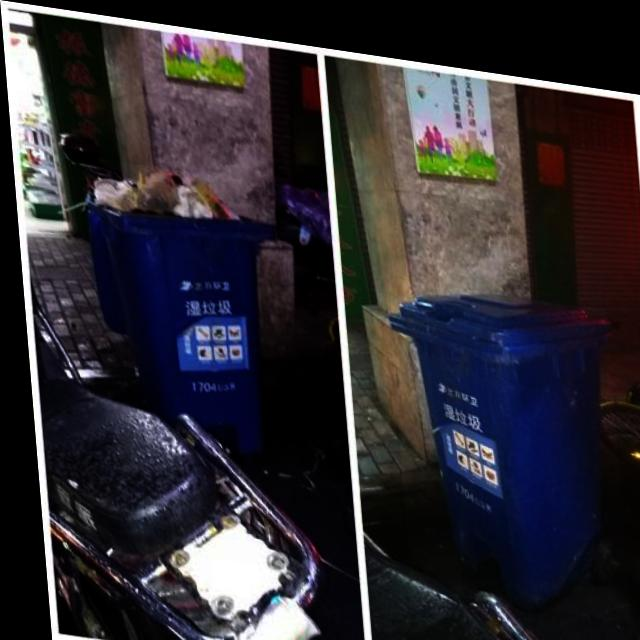garbage_bin: (383, 266, 623, 605)
overflow: (81, 154, 284, 452)
